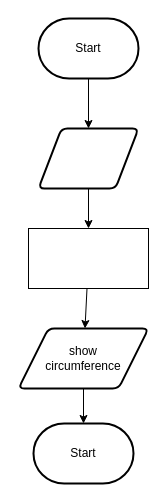
This 166x501 diagram has some shape labels left out. Here are the shapes that lost their labels. From the top down, the box of each, then its label:
(37, 127, 139, 189): Get radius
(28, 228, 148, 288): circumference = tau * radius
